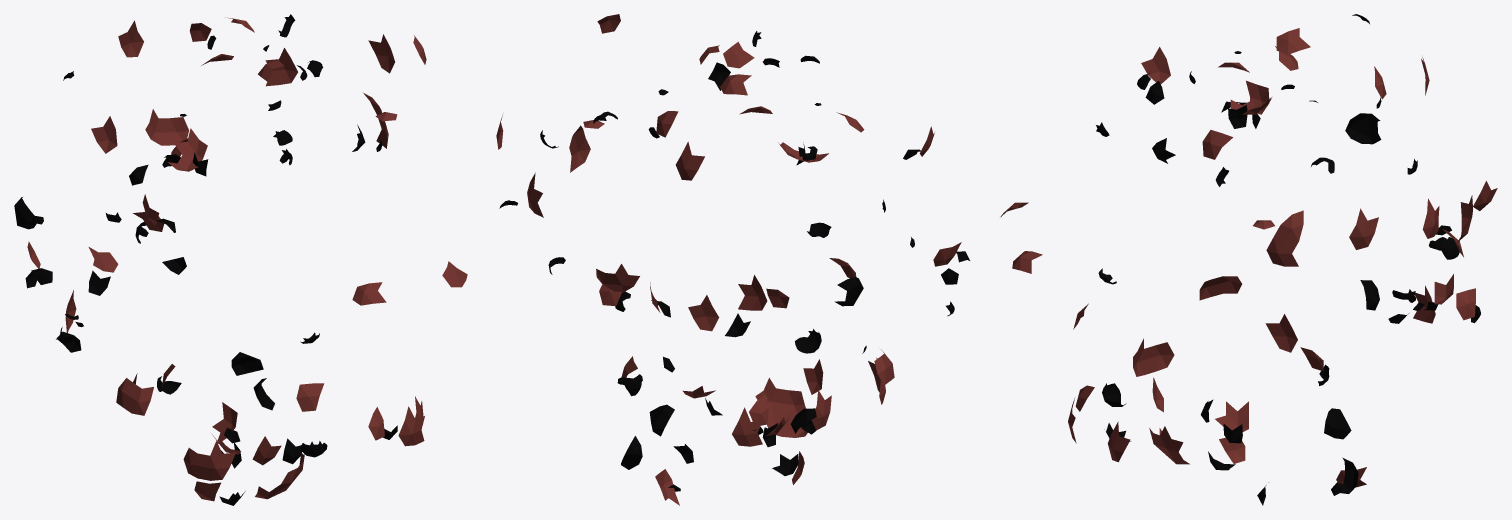
The model's file is explode.f0026.glb.
The picture shows the model from 3 angles, left to right: view 1: azimuth 30°, elevation 25°; view 2: azimuth 150°, elevation 25°; view 3: azimuth 270°, elevation 25°; orthographic projection. The views are drawn at different scales.
Parts seen in each view (by area): view 1: Body.001; view 2: Body.001; view 3: Body.001.
Part boxes in pixels (left/top/right/bottom): Body.001: left=14, top=14, right=467, bottom=505; Body.001: left=496, top=14, right=969, bottom=505; Body.001: left=1000, top=14, right=1497, bottom=505.
Bounding box in the file's own units: 10.66 × 11.01 × 10.88.
1 material, 1 textured.
